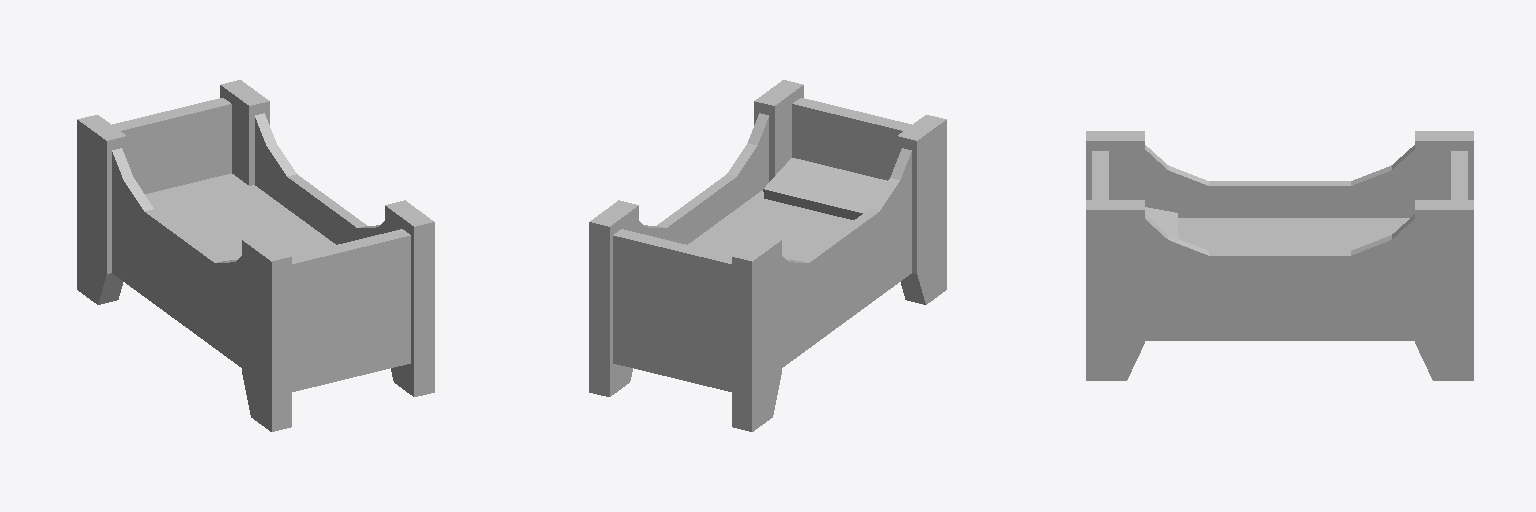
Rendered from fancy_nordic_bed_item.obj.
The picture shows the model from 3 angles: view 1: azimuth 30°, elevation 25°; view 2: azimuth 150°, elevation 25°; view 3: azimuth 270°, elevation 25°; orthographic projection.
Visible parts, largest first — view 1: head_board, head_leg_left, foot_board, bed_foot, foot_side_left, foot_leg_right, head_side_right, head_leg_right, foot_side_right, foot_leg_left, head_side_left, bed_head; view 2: foot_board, foot_leg_right, head_side_right, head_leg_left, head_board, foot_side_left, foot_leg_left, bed_head, pillow, head_side_left, head_leg_right, foot_side_right (+1 smaller); view 3: head_side_left, foot_side_right, head_leg_right, foot_leg_left, foot_side_left, head_side_right, bed_foot, head_leg_left, foot_leg_right, bed_head, head_board, foot_board (+1 smaller).
Boxes of the visible parts, x1,y1,x2,y2 form: head_board: [292, 229, 410, 391]; head_leg_left: [242, 235, 291, 431]; foot_board: [112, 98, 231, 193]; bed_foot: [145, 173, 321, 258]; foot_side_left: [112, 148, 188, 322]; foot_leg_right: [77, 115, 126, 304]; head_side_right: [180, 235, 241, 367]; head_leg_right: [385, 200, 434, 396]; foot_side_right: [255, 113, 331, 233]; foot_leg_left: [220, 80, 269, 185]; head_side_left: [322, 200, 384, 244]; bed_head: [223, 235, 335, 260]; foot_board: [613, 229, 731, 391]; foot_leg_right: [732, 235, 781, 431]; head_side_right: [835, 148, 911, 322]; head_leg_left: [897, 115, 946, 304]; head_board: [792, 98, 911, 180]; foot_side_left: [782, 235, 843, 367]; foot_leg_left: [589, 200, 638, 396]; bed_head: [702, 190, 853, 258]; pillow: [763, 158, 887, 219]; head_side_left: [692, 113, 768, 233]; head_leg_right: [754, 80, 803, 181]; foot_side_right: [639, 200, 701, 244]; head_side_left: [1145, 214, 1279, 340]; foot_side_right: [1280, 214, 1414, 340]; head_leg_right: [1086, 200, 1144, 380]; foot_leg_left: [1415, 200, 1473, 380]; foot_side_left: [1280, 145, 1414, 217]; head_side_right: [1145, 145, 1279, 217]; bed_foot: [1280, 218, 1409, 250]; head_leg_left: [1086, 131, 1144, 199]; foot_leg_right: [1415, 131, 1473, 199]; bed_head: [1178, 218, 1279, 250]; head_board: [1092, 151, 1108, 199]; foot_board: [1451, 151, 1467, 199].
Size of the model in its own units: 1 by 1 by 2.06.